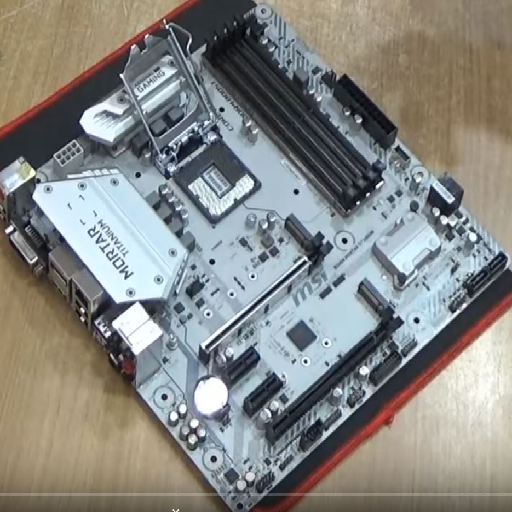GPU: (264, 307, 406, 450), (197, 231, 330, 364), (160, 127, 262, 222)
MOTHERBOARD: (9, 6, 511, 501)
RAM: (202, 14, 385, 211)
SSD: (356, 277, 394, 319), (282, 212, 316, 248)
